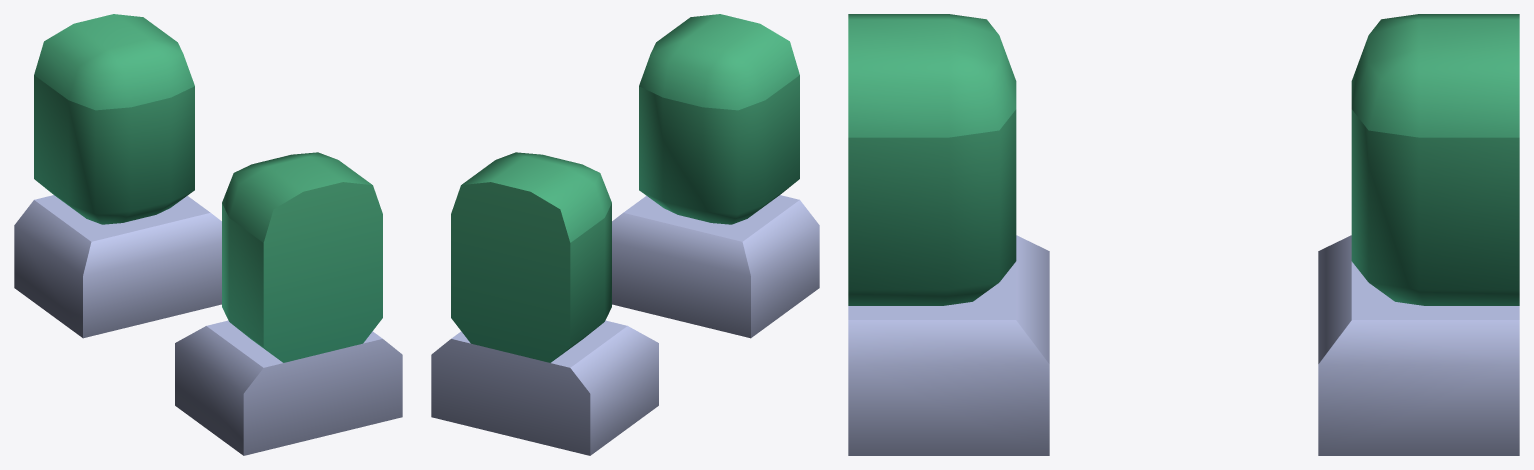
The model's file is hedge-large-gate.glb.
3 renders of one model, left to right at view 1: azimuth 30°, elevation 25°; view 2: azimuth 150°, elevation 25°; view 3: azimuth 270°, elevation 25°, orthographic. The views are drawn at different scales.
Visible parts, largest first — view 1: hedge-large-gate; view 2: hedge-large-gate; view 3: hedge-large-gate.
Boxes of the visible parts, x1,y1,x2,y2 form: hedge-large-gate: [14, 14, 402, 455]; hedge-large-gate: [431, 14, 819, 455]; hedge-large-gate: [848, 14, 1519, 455].
Bounding box in the file's own units: 0.4 × 0.6 × 1.
1 material, 1 textured.
